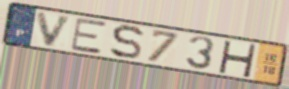3: (184, 35, 215, 71)
7: (145, 29, 180, 65)
E: (69, 17, 108, 56)
H: (216, 38, 258, 79)
S: (108, 23, 146, 61)
V: (35, 10, 76, 49)
